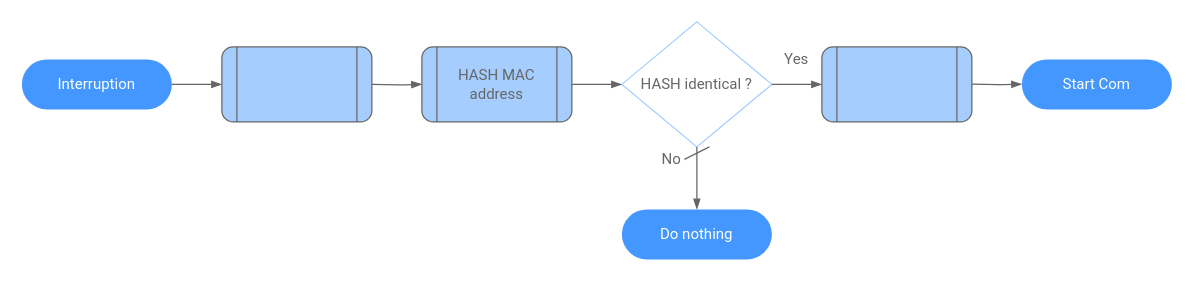
The diagram is 1193 pixels wide and 281 high, and some of its shapes have lost their labels. The shapes that lost their labels are listed below. From the top down, each one's centre as x and y in pixels, then its label:
pixel 296 84: Retrive MAC address
pixel 896 84: Connection
